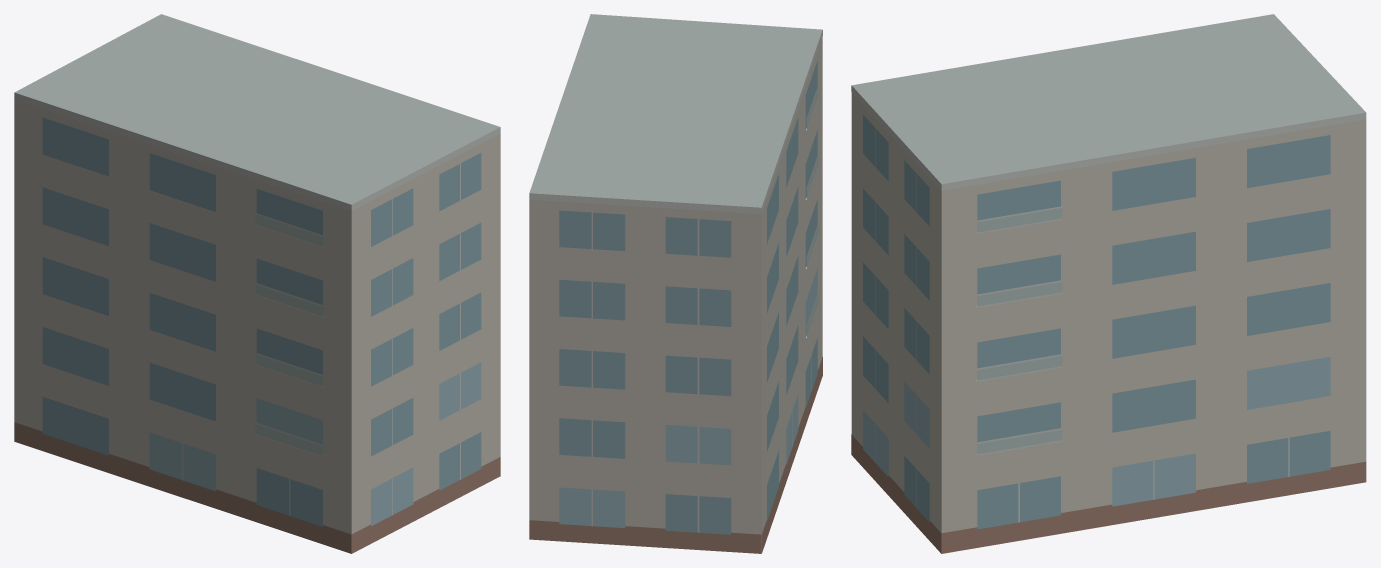
The model's file is survey-upis-33025050.glb.
The picture shows the model from 3 angles, left to right: view 1: azimuth 30°, elevation 25°; view 2: azimuth 150°, elevation 25°; view 3: azimuth 270°, elevation 25°; orthographic projection. The views are drawn at different scales.
Visible parts, largest first — view 1: survey-upis-33025050.tmp; view 2: survey-upis-33025050.tmp; view 3: survey-upis-33025050.tmp.
Part boxes in pixels (box(x1,y1,x2,y2)): survey-upis-33025050.tmp: box(14, 14, 500, 553); survey-upis-33025050.tmp: box(529, 14, 822, 553); survey-upis-33025050.tmp: box(851, 14, 1366, 553).
Bounding box in the file's own units: 13.05 × 13.2 × 16.67.
